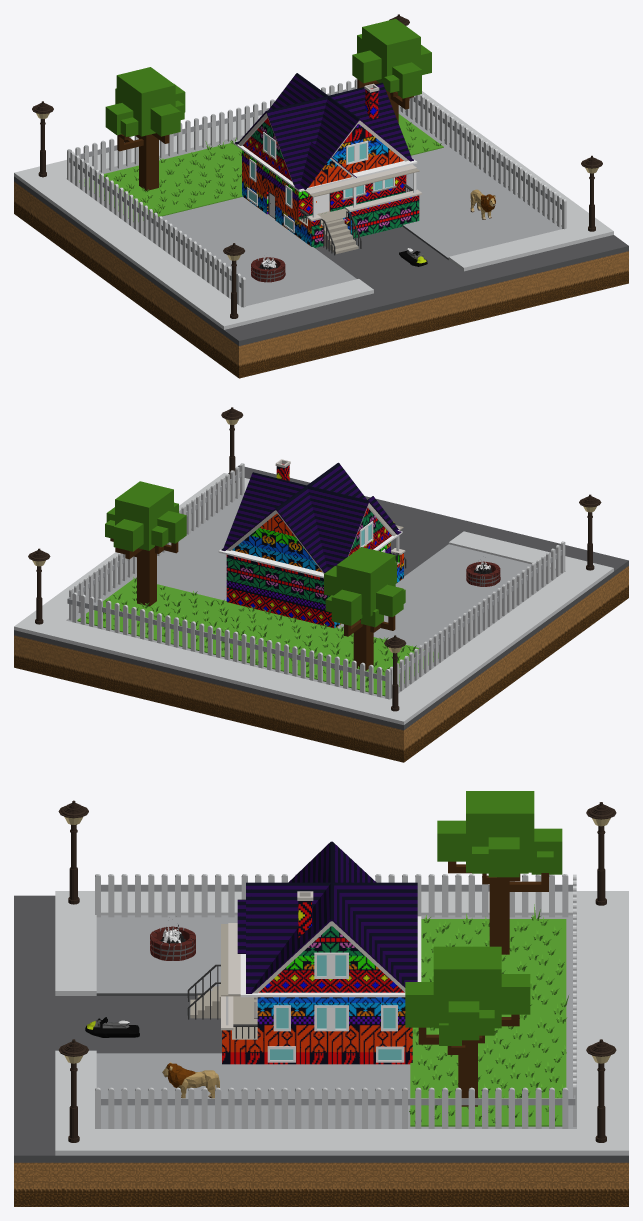
3 views of the same model, one above another, from view 1: azimuth 30°, elevation 25°; view 2: azimuth 150°, elevation 25°; view 3: azimuth 270°, elevation 25° (orthographic). The views are drawn at different scales.
Visible parts, largest first — view 1: Cube.004, Cube.966, OBJRANDOM_CAMPFIRE, ANIMAL_LEON; view 2: Cube.004, Cube.966, OBJRANDOM_CAMPFIRE; view 3: Cube.004, Cube.966, OBJRANDOM_CAMPFIRE, ANIMAL_LEON, VEHICLES_WATERBIKE.
Part boxes in pixels (left/top/right/bottom): Cube.004: left=14, top=14, right=628, bottom=378; Cube.966: left=233, top=73, right=422, bottom=255; OBJRANDOM_CAMPFIRE: left=251, top=255, right=285, bottom=282; ANIMAL_LEON: left=470, top=189, right=495, bottom=219; Cube.004: left=14, top=407, right=628, bottom=762; Cube.966: left=218, top=459, right=406, bottom=627; OBJRANDOM_CAMPFIRE: left=466, top=561, right=500, bottom=586; Cube.004: left=14, top=791, right=628, bottom=1206; Cube.966: left=187, top=841, right=421, bottom=1064; OBJRANDOM_CAMPFIRE: left=150, top=924, right=195, bottom=960; ANIMAL_LEON: left=162, top=1062, right=219, bottom=1098; VEHICLES_WATERBIKE: left=85, top=1017, right=139, bottom=1037.
Size of the model in its own units: 4000 by 1604 by 4000.
Materials: 34 (7 with a texture image).
